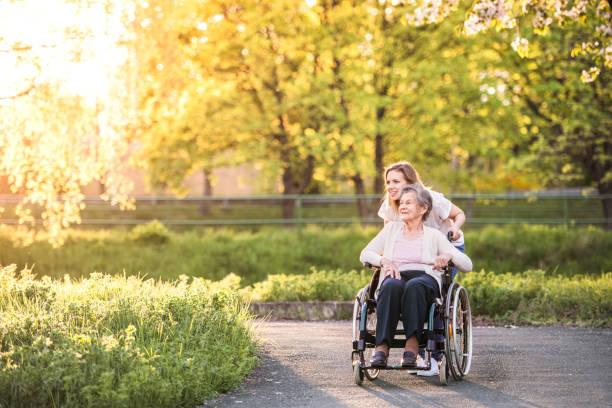push_wheelchair: (377, 162, 465, 376)
wheelchair: (352, 185, 472, 384)
